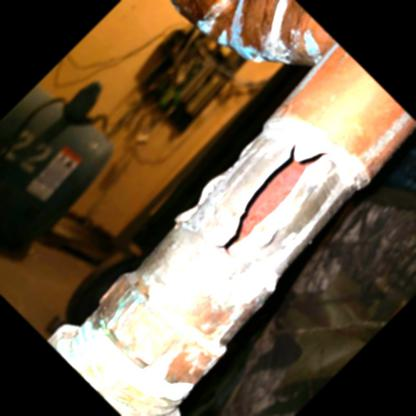burst: (213, 141, 336, 256)
